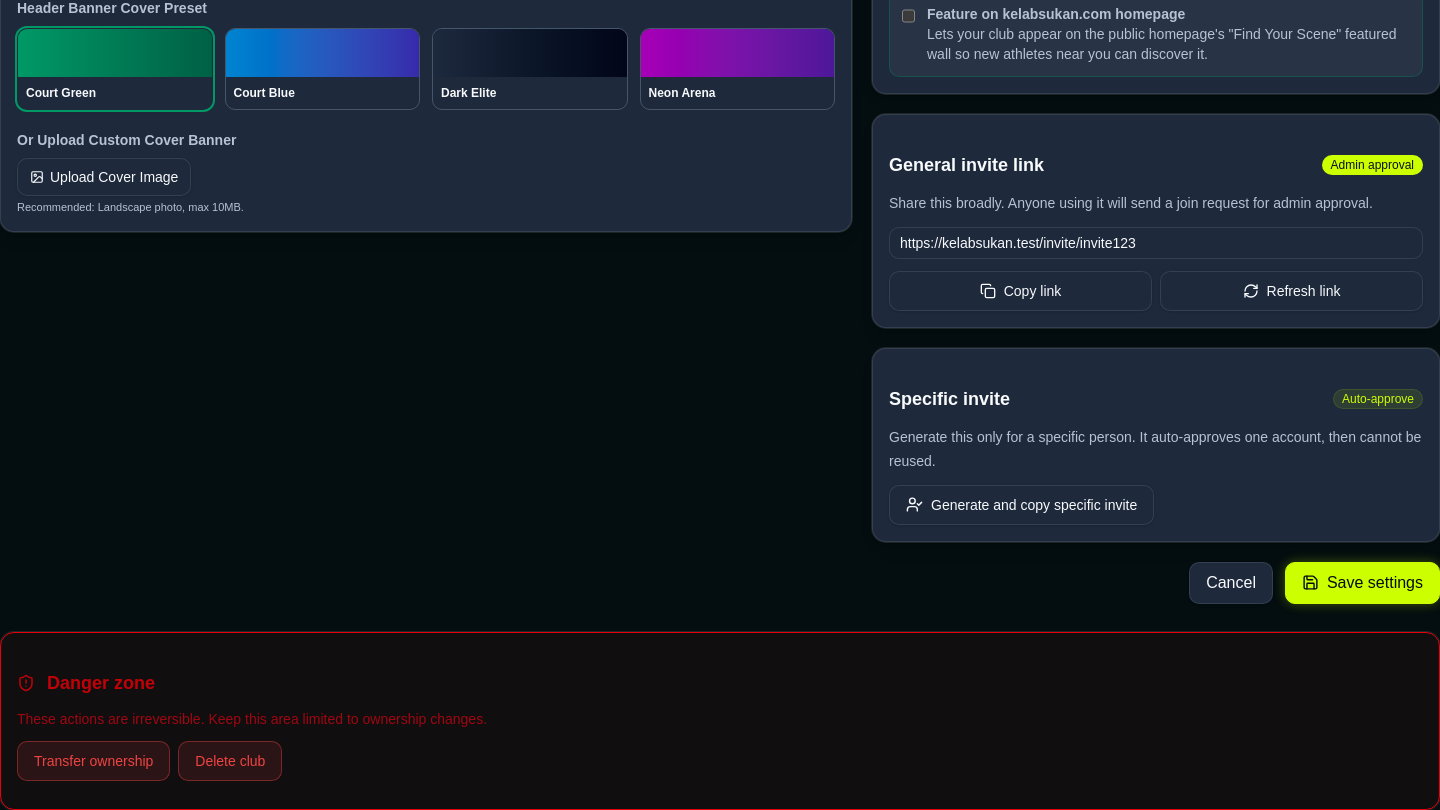
Test: ClubSettingsPage tests › prevents deletion when members exist
(page scrolled)
What coordinates should you click on to do the following:
click the button "Delete club"
I would click on:
 (230, 761)
Its box is [178, 741, 282, 781].
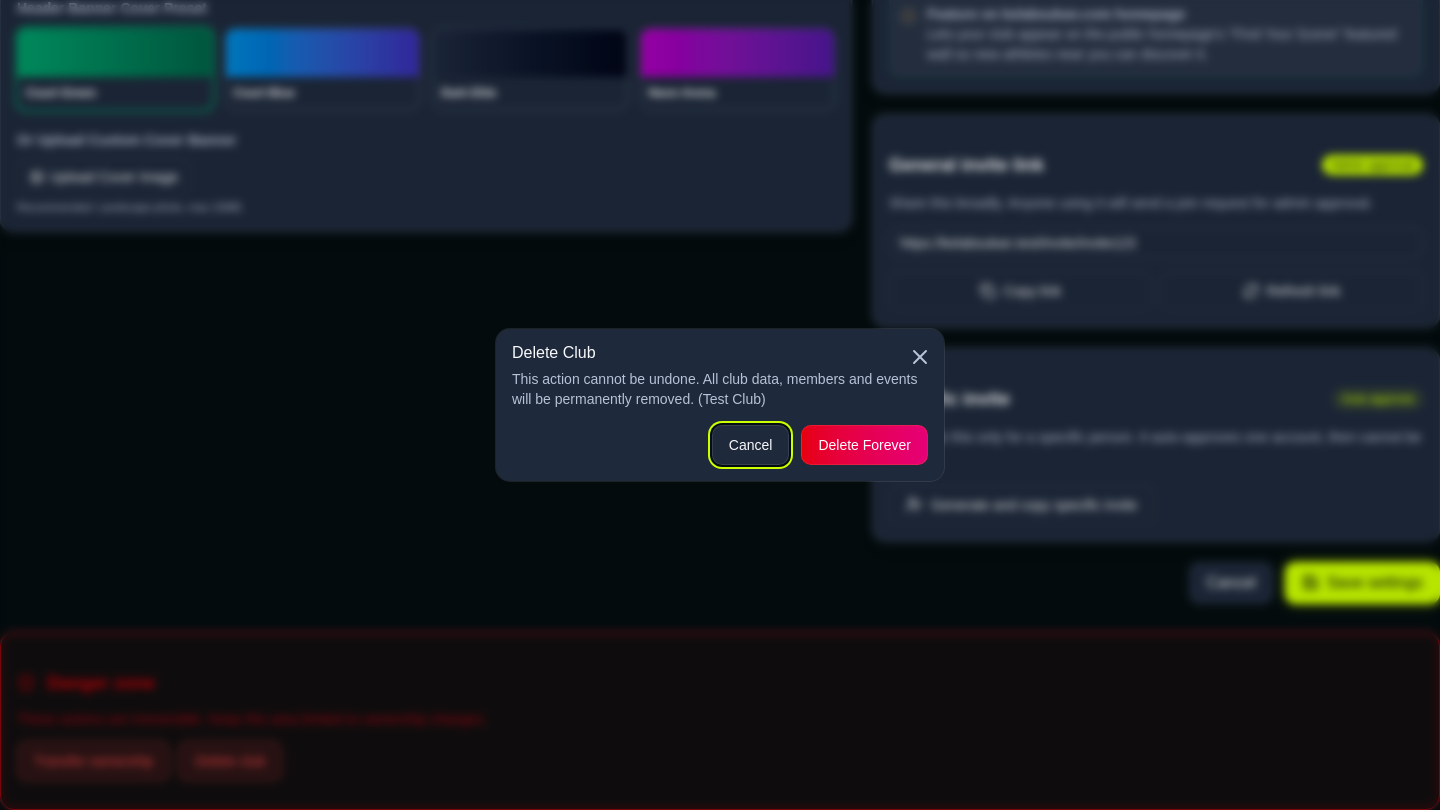
expect the dialog is shown: met, box [496, 329, 944, 481]
What coordinates should you click on to do the following:
click the button "Delete Forever"
I would click on:
 (865, 445)
Its box is [801, 425, 928, 465].
(page scrolled)
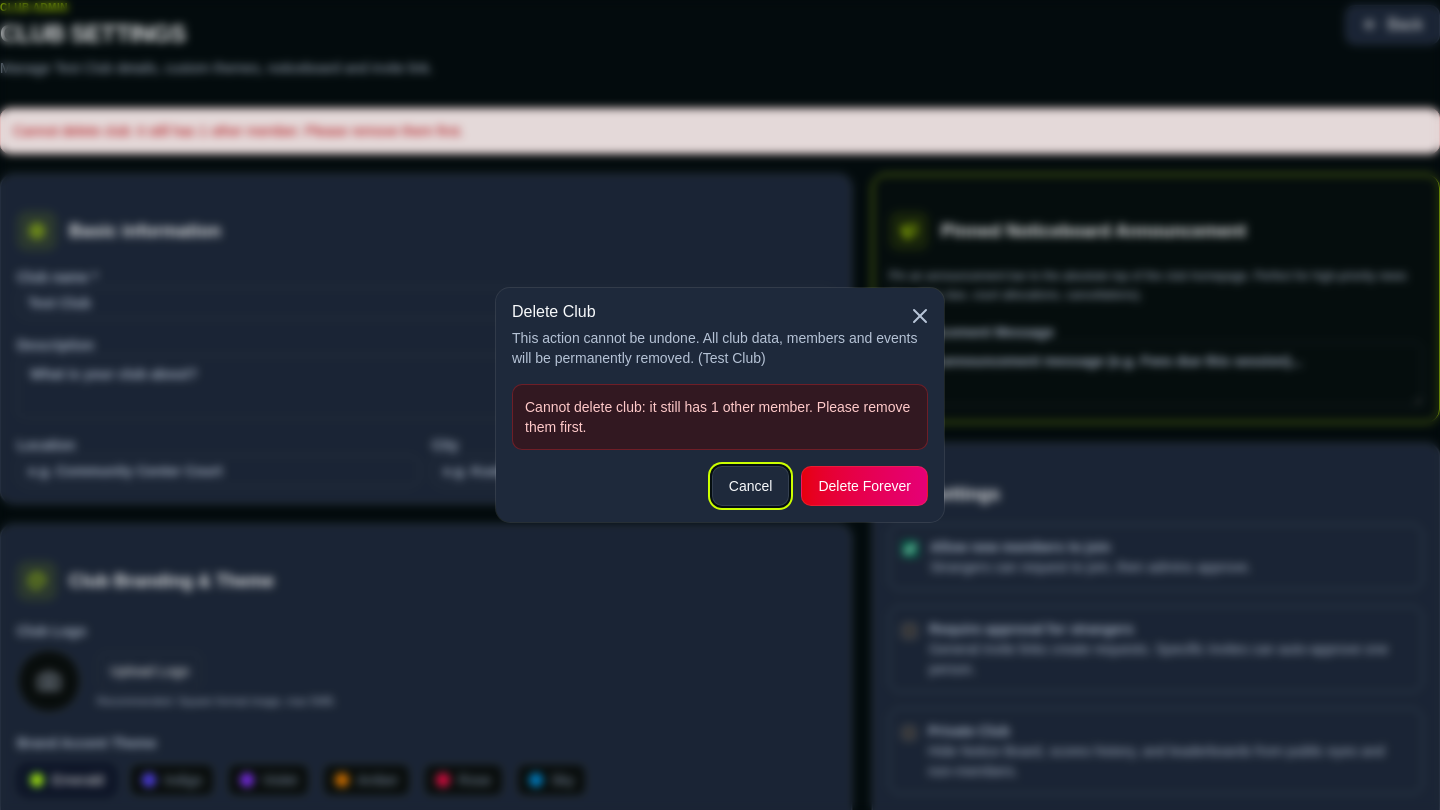
expect the text "Cannot delete club: it still has 1 other member" below "Club settings" is shown: met, box [13, 123, 464, 139]
